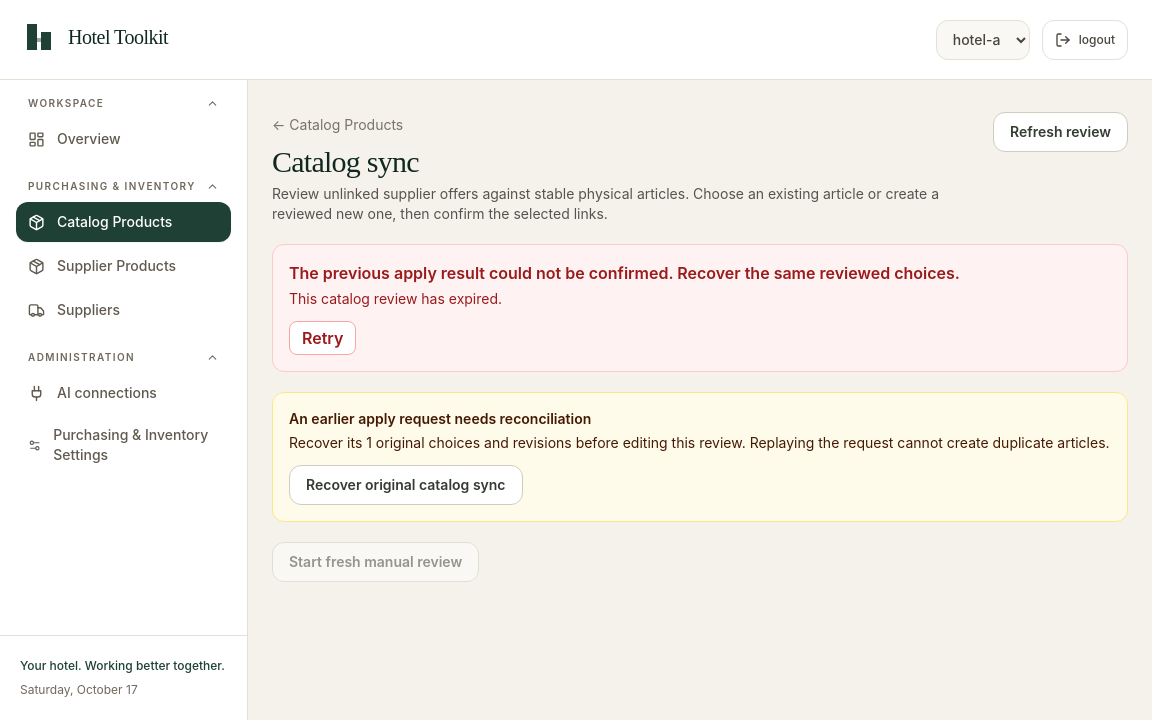
Test: recovers an expired review's original apply receipt without loading proposals or creating another request
Expected: the text "This catalog review has expired." is shown, [289,290,502,307]
Click the button "Recover original catalog sync".
click(406, 485)  # box [289,465,522,505]
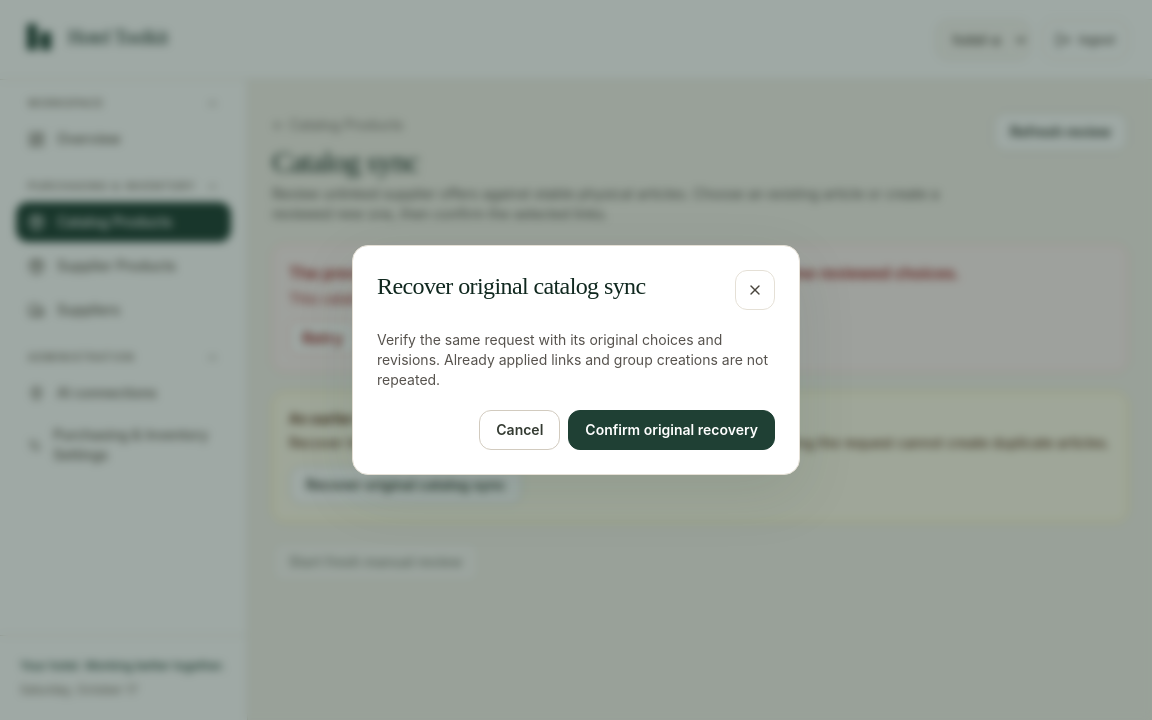
Click the button "Confirm original recovery".
click(672, 430)  # box [568,410,775,450]
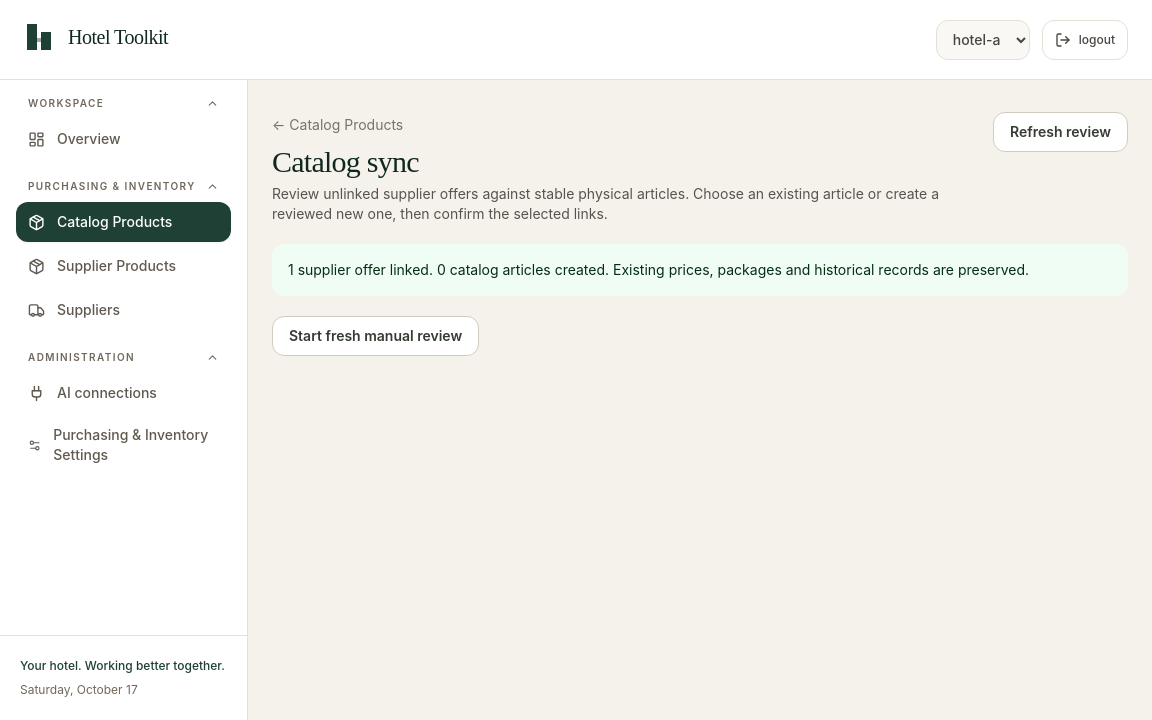
Now the text "1 supplier offer linked" is shown, box [288,261,1029,278]
Now the button "Start fresh manual review" is enabled
Click the button "Start fresh manual review".
click(376, 336)  # box [272,316,479,356]
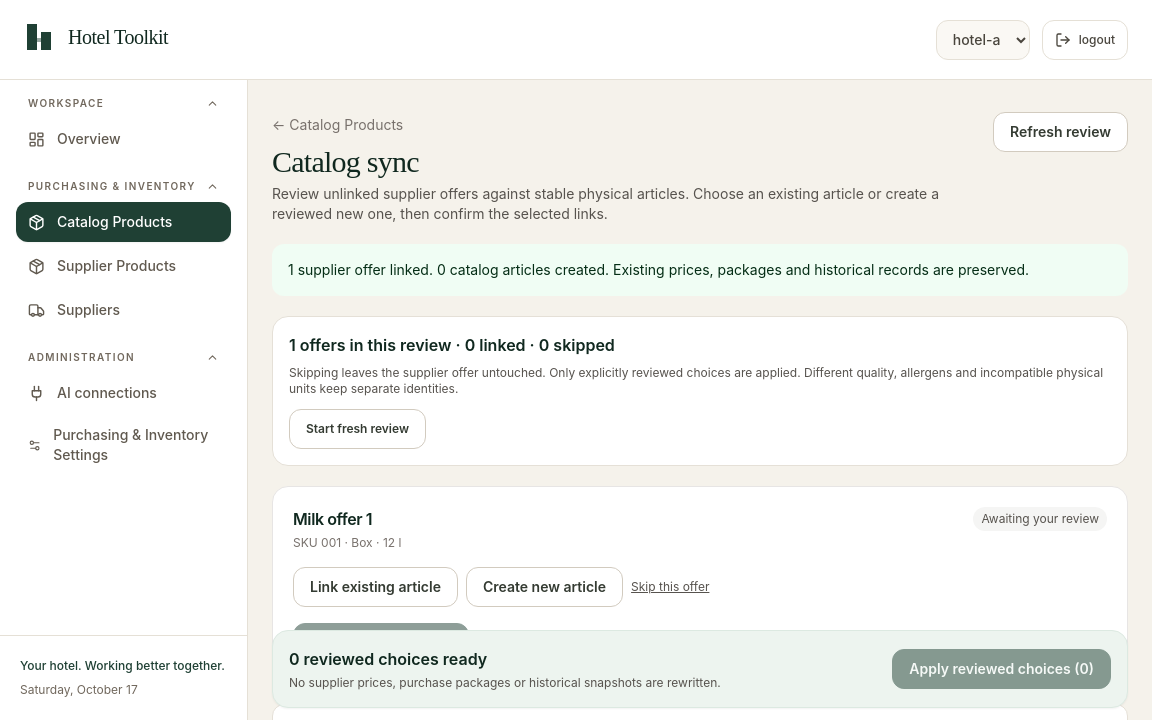
Now the heading "Milk offer 1" is shown, box [293,509,372,529]
